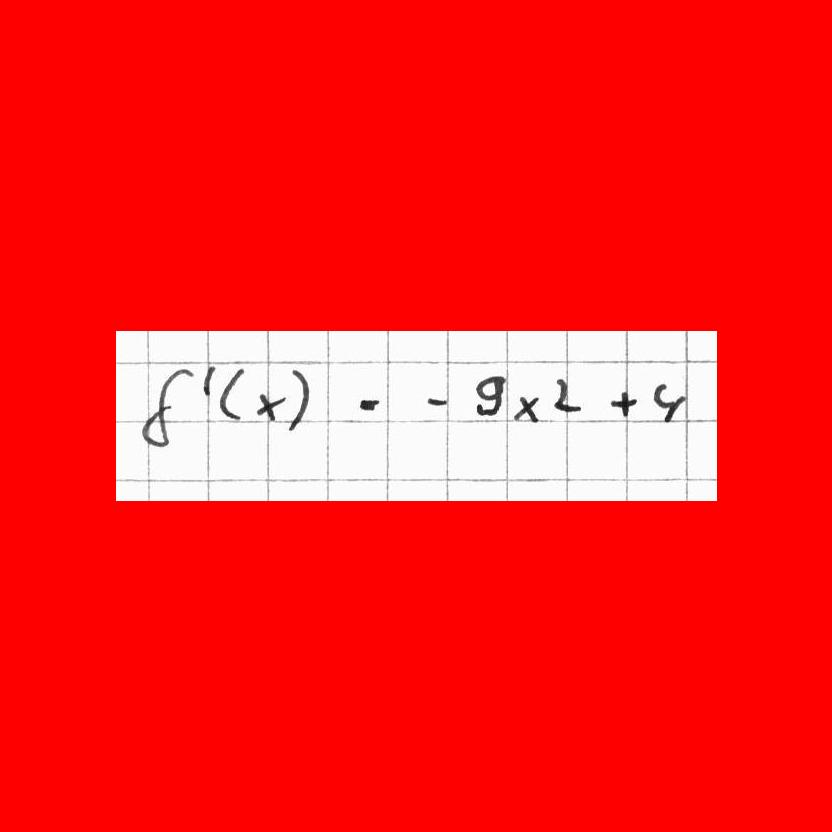Char: (137, 365, 190, 446), (218, 363, 245, 422), (286, 366, 308, 436), (471, 372, 505, 417), (651, 381, 682, 426), (551, 374, 582, 416), (514, 390, 544, 423), (255, 388, 283, 422), (609, 389, 635, 419), (198, 363, 217, 398), (356, 395, 381, 415), (423, 393, 450, 408)
